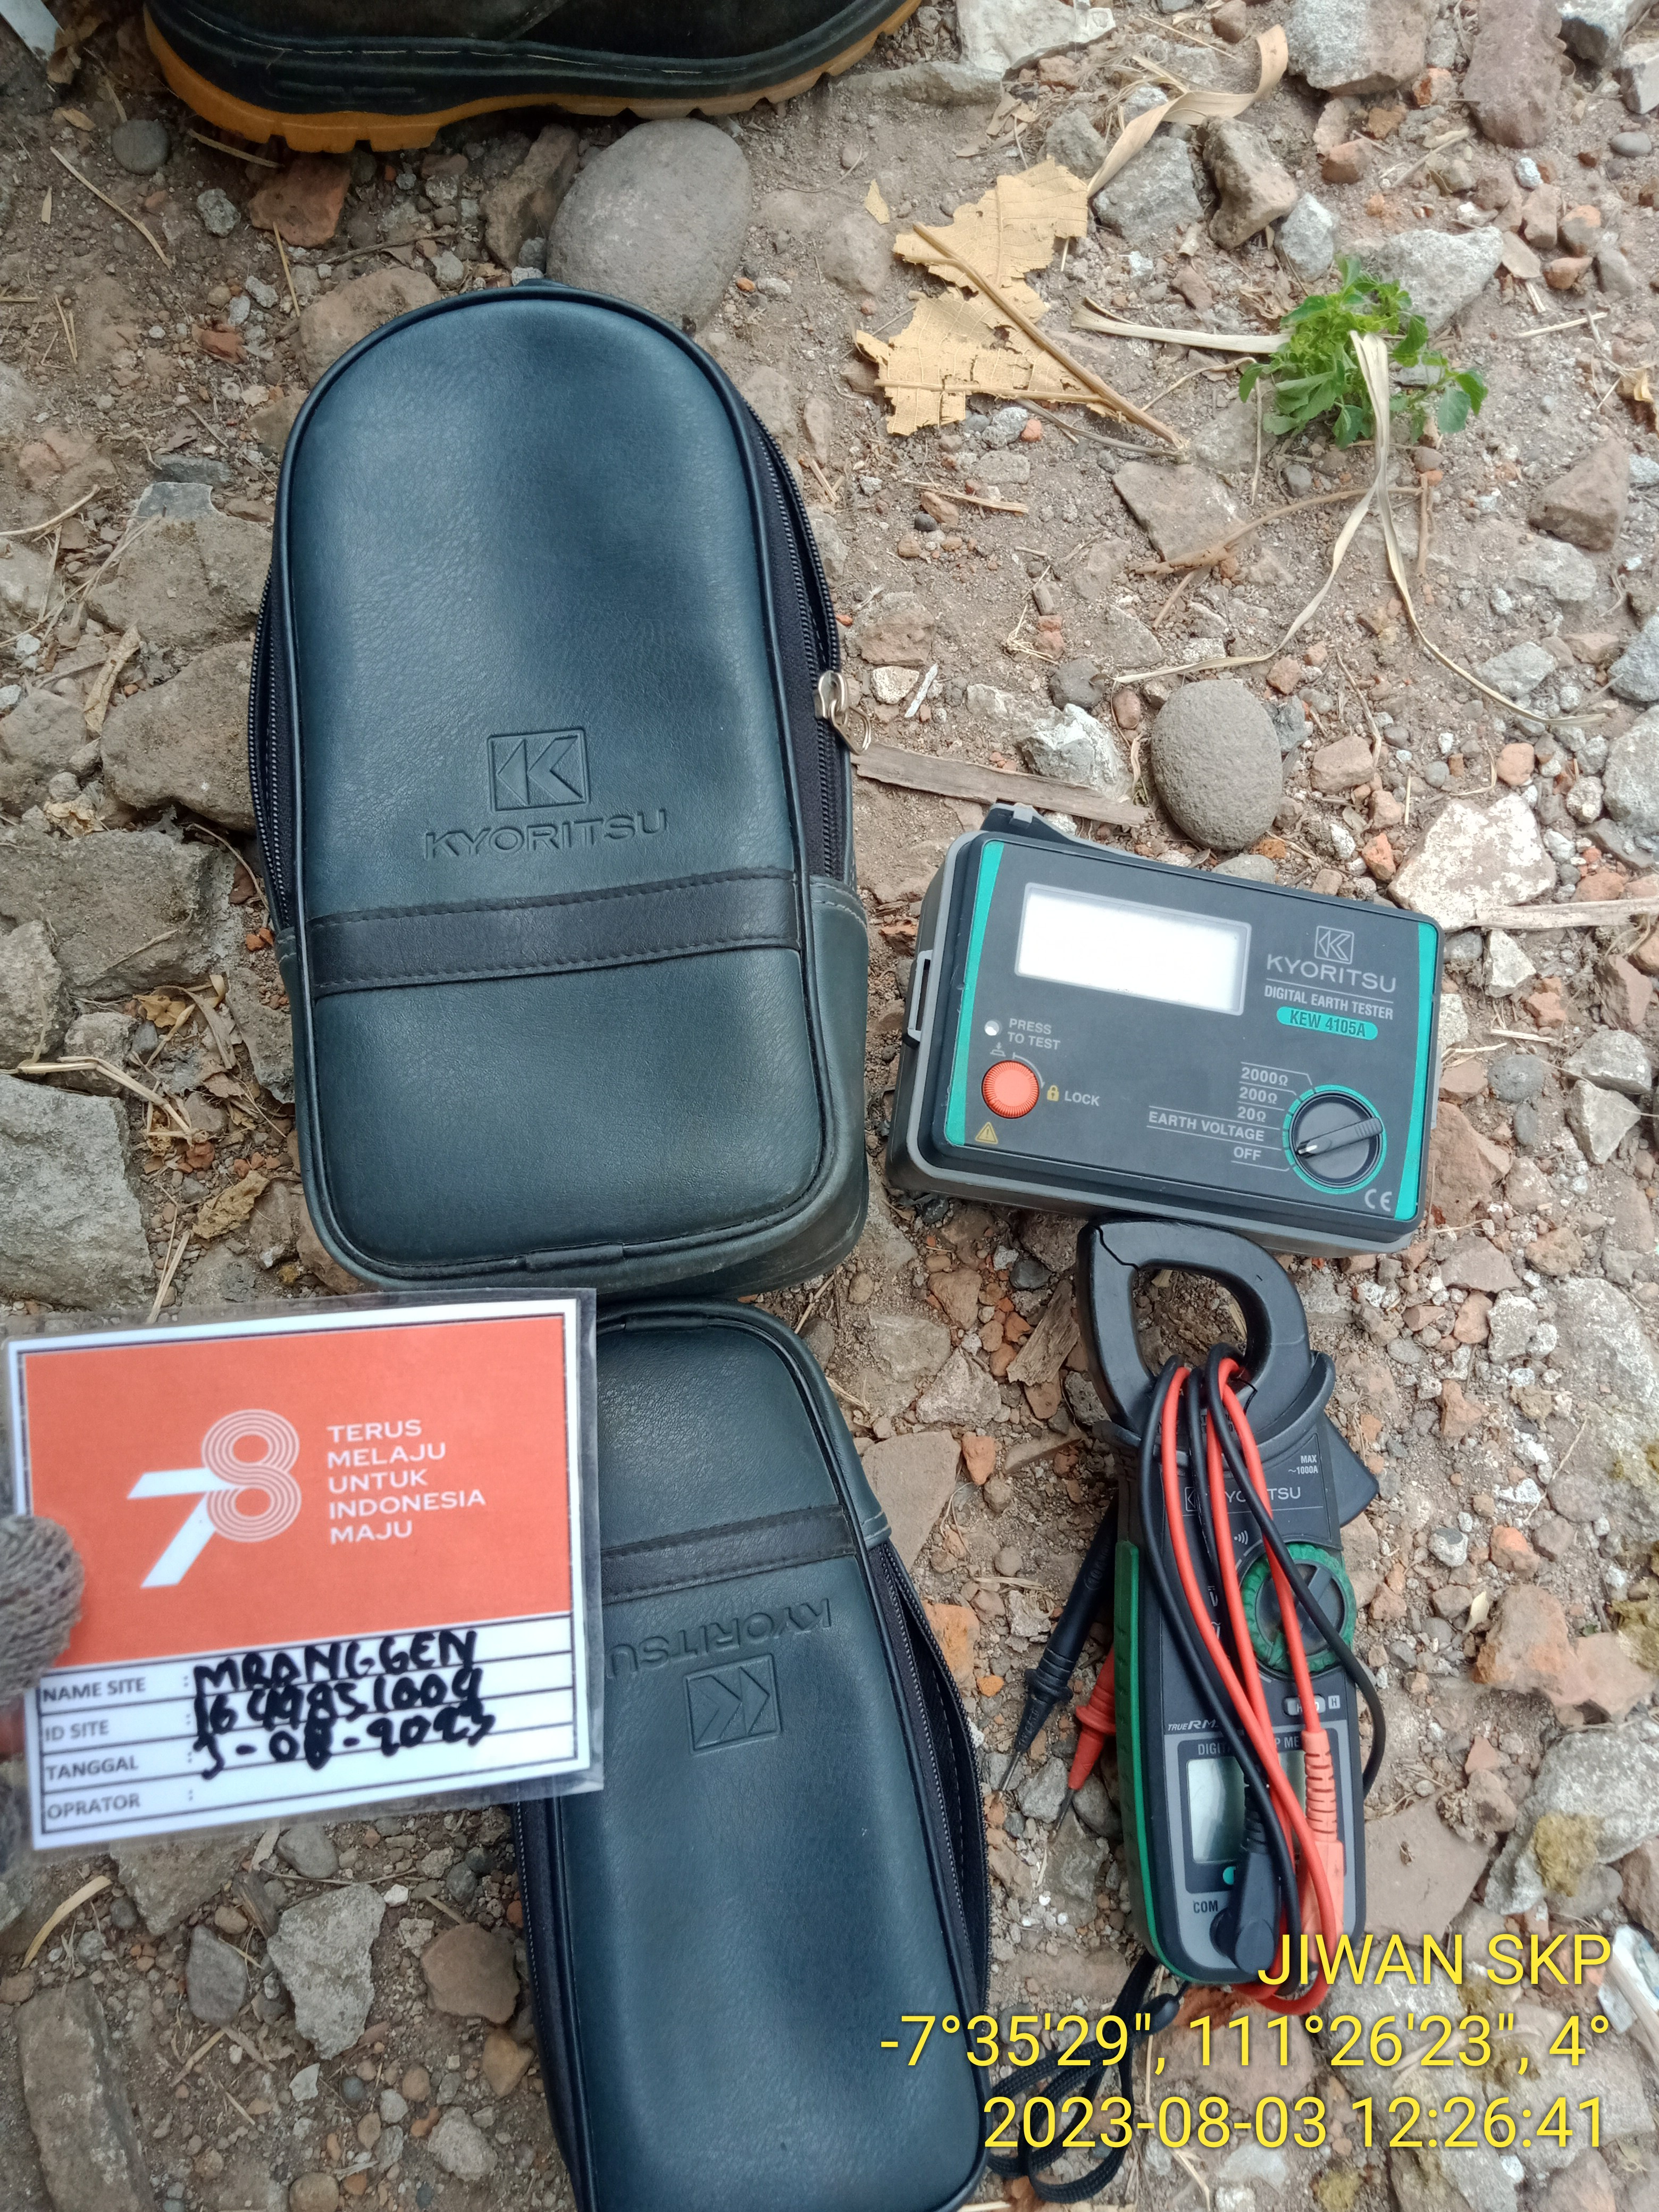EARTH_GROUNDING_TESTER: (887, 798, 1434, 1228)
TANG_AMPERE: (1077, 1219, 1373, 1961)
